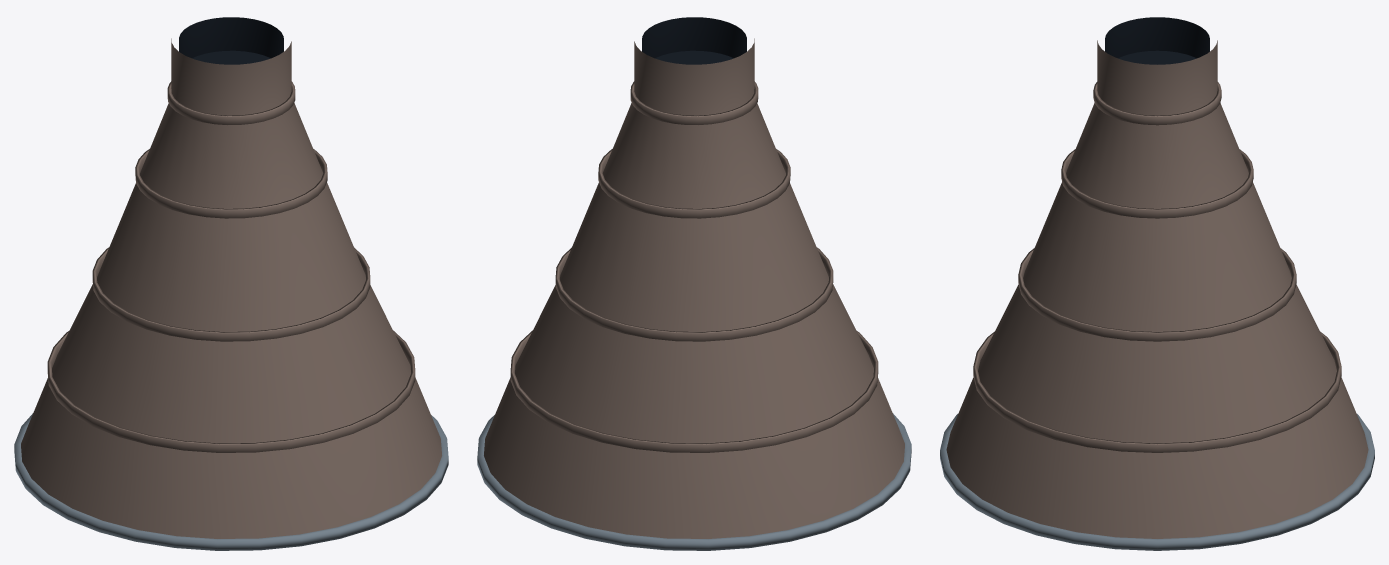
Rendered from titan_stage_2.lr91.glb.
The picture shows the model from 3 angles, left to right: view 1: azimuth 30°, elevation 25°; view 2: azimuth 150°, elevation 25°; view 3: azimuth 270°, elevation 25°; orthographic projection.
Visible parts, largest first — view 1: titan_stage_2.lr91.bell.mesh_Heat-stained_alloy, titan_stage_2.lr91.bell.mesh_Machined_steel, titan_stage_2.lr91.bell.mesh_Shadowed_interior; view 2: titan_stage_2.lr91.bell.mesh_Heat-stained_alloy, titan_stage_2.lr91.bell.mesh_Machined_steel, titan_stage_2.lr91.bell.mesh_Shadowed_interior; view 3: titan_stage_2.lr91.bell.mesh_Heat-stained_alloy, titan_stage_2.lr91.bell.mesh_Machined_steel, titan_stage_2.lr91.bell.mesh_Shadowed_interior.
Part boxes in pixels (bbox=[...]): titan_stage_2.lr91.bell.mesh_Heat-stained_alloy: bbox=[21, 38, 441, 538]; titan_stage_2.lr91.bell.mesh_Machined_steel: bbox=[14, 413, 448, 550]; titan_stage_2.lr91.bell.mesh_Shadowed_interior: bbox=[179, 17, 283, 64]; titan_stage_2.lr91.bell.mesh_Heat-stained_alloy: bbox=[484, 38, 904, 538]; titan_stage_2.lr91.bell.mesh_Machined_steel: bbox=[477, 413, 911, 550]; titan_stage_2.lr91.bell.mesh_Shadowed_interior: bbox=[642, 17, 746, 64]; titan_stage_2.lr91.bell.mesh_Heat-stained_alloy: bbox=[946, 40, 1368, 538]; titan_stage_2.lr91.bell.mesh_Machined_steel: bbox=[940, 414, 1374, 550]; titan_stage_2.lr91.bell.mesh_Shadowed_interior: bbox=[1105, 17, 1209, 64].
Size of the model in its own units: 1.56 by 1.66 by 1.56.
